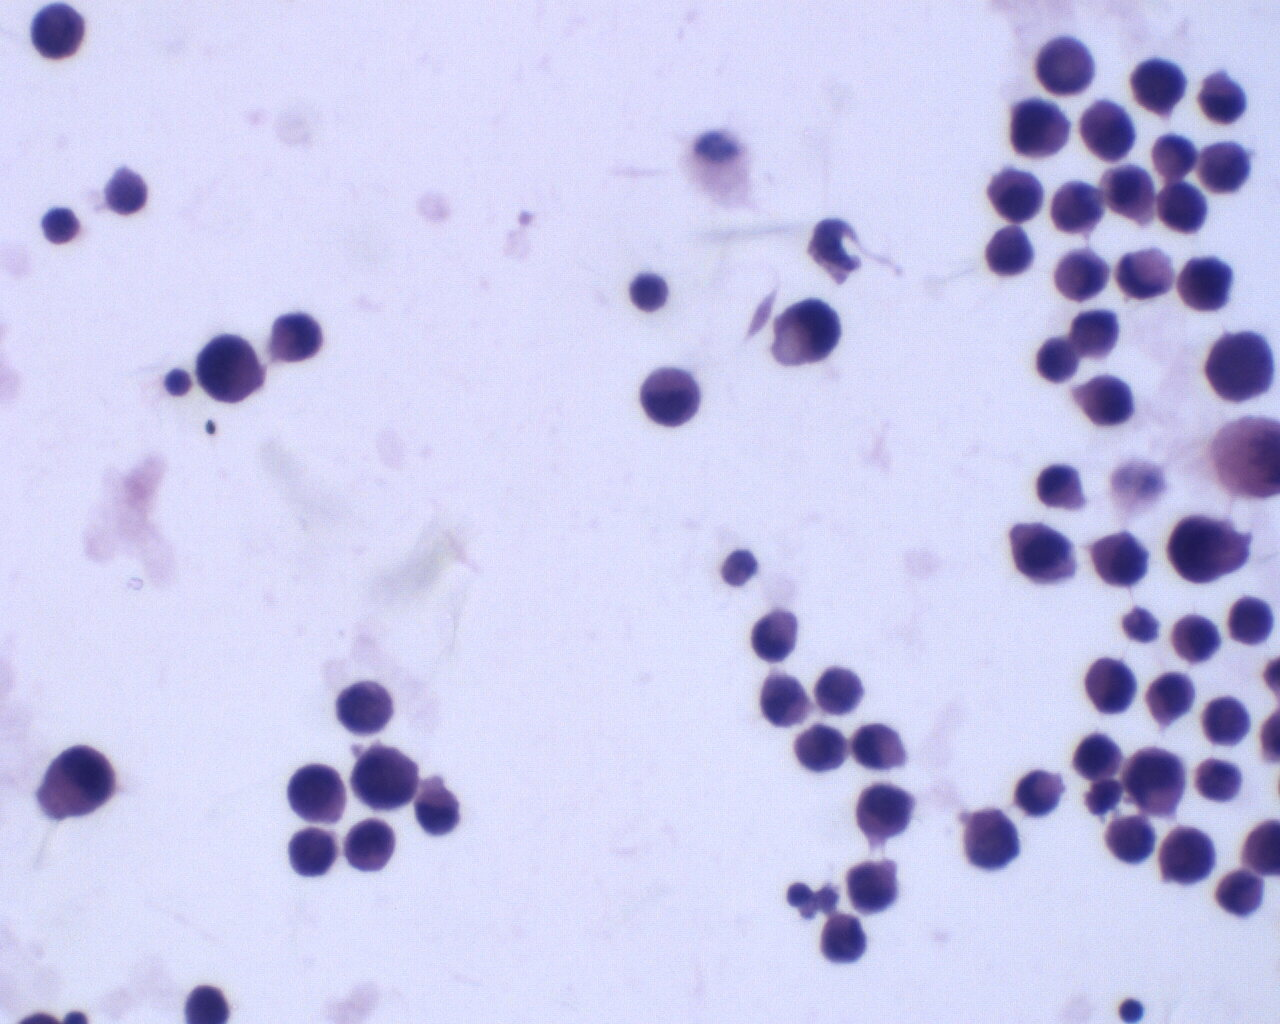ab: (1162, 508, 1264, 591), (1206, 326, 1280, 410), (193, 331, 271, 408), (1120, 741, 1190, 821), (351, 740, 423, 816), (1007, 519, 1083, 589), (1005, 95, 1077, 167), (953, 801, 1023, 874), (1070, 96, 1141, 163), (1085, 523, 1153, 587), (850, 781, 920, 842), (1176, 250, 1237, 318), (284, 760, 349, 823), (1160, 822, 1221, 889), (330, 676, 393, 737), (1083, 654, 1139, 720), (1196, 135, 1255, 197), (27, 1, 88, 61), (990, 162, 1047, 222), (791, 721, 850, 778), (1154, 177, 1209, 235), (1140, 670, 1197, 725), (345, 818, 398, 878), (816, 910, 871, 963), (288, 828, 341, 882)
